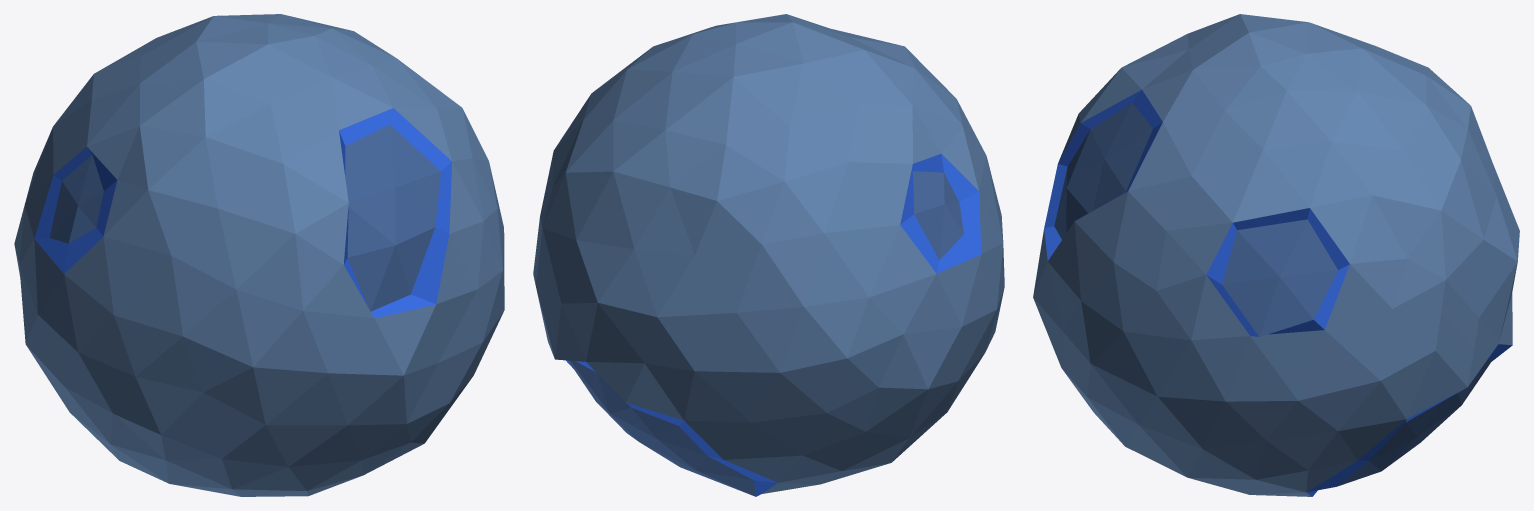
The model's file is uranus.fbx.
3 renders of one model, left to right at view 1: azimuth 30°, elevation 25°; view 2: azimuth 150°, elevation 25°; view 3: azimuth 270°, elevation 25°, orthographic. The views are drawn at different scales.
Parts seen in each view (by area): view 1: uranus; view 2: uranus; view 3: uranus.
Part boxes in pixels (box(x1,y1,x2,y2)): uranus: box(14, 14, 504, 496); uranus: box(533, 14, 1004, 496); uranus: box(1033, 14, 1519, 496).
Size of the model in its own units: 187 by 188 by 189.
